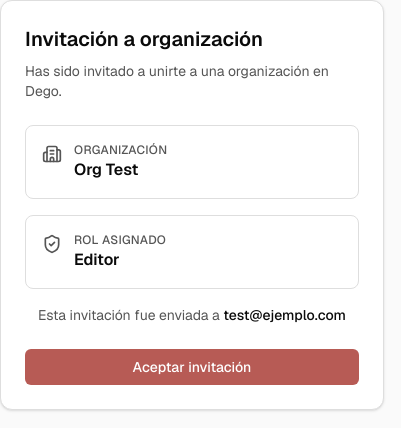
Scenario: AceptarInvitacionScreen — mensajes de error por código › muestra el mensaje correcto para INVITACION_INVALIDA al aceptar
Hacer click en "Aceptar invitación"
Click the button "Aceptar invitación" at (192, 367), box [25, 349, 359, 385]
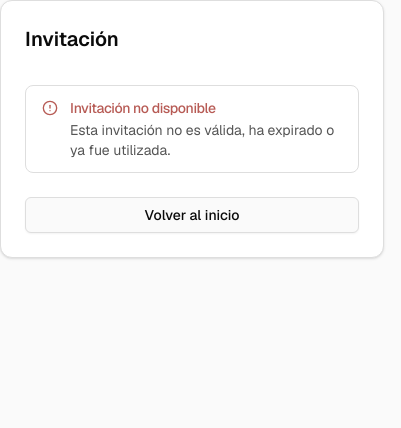
Check: the text "Esta invitación no es válida, ha expirado o ya fue utilizada." is shown, box [70, 120, 342, 160]
